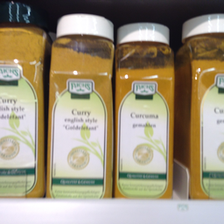spices: (45, 12, 113, 198), (114, 22, 177, 200), (1, 1, 45, 196), (178, 13, 224, 196)
